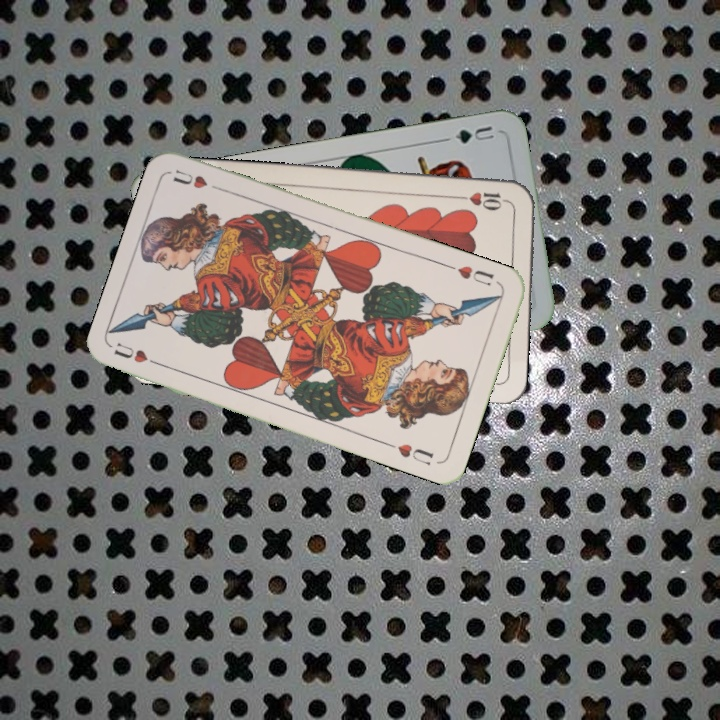GU: (451, 121, 497, 147)
H10: (452, 187, 511, 210)
HU: (110, 339, 167, 370), (444, 261, 496, 288)
